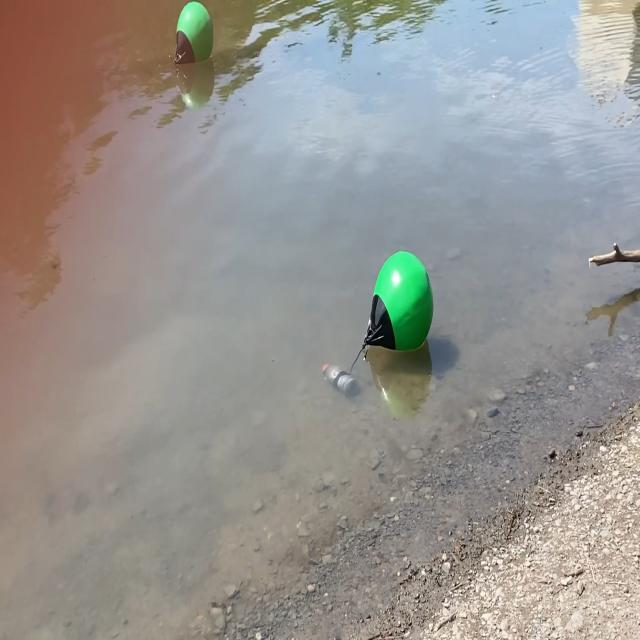buoy: (364, 248, 436, 356), (172, 0, 214, 68)
